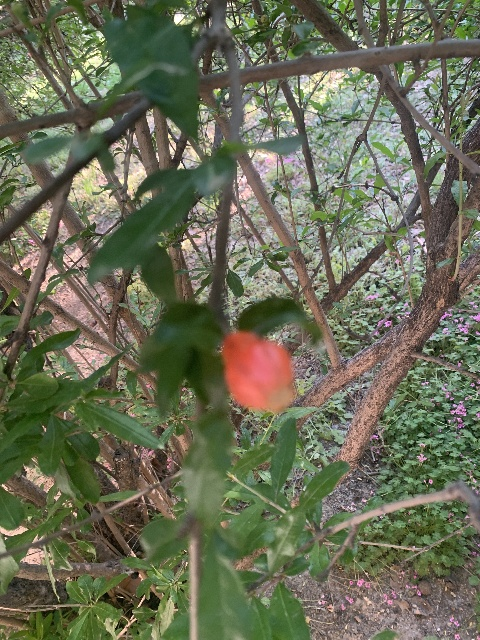bud: (220, 330, 296, 413)
